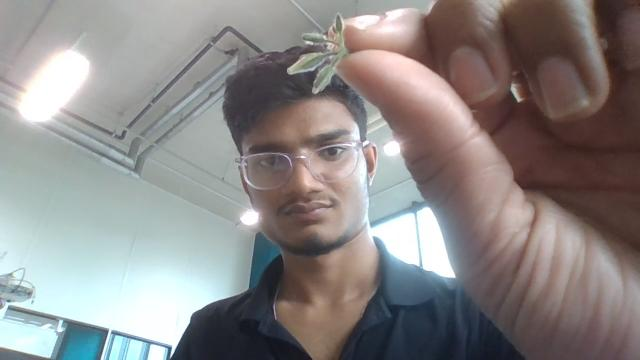Flower Bud: (313, 57, 343, 94), (286, 50, 331, 74)
